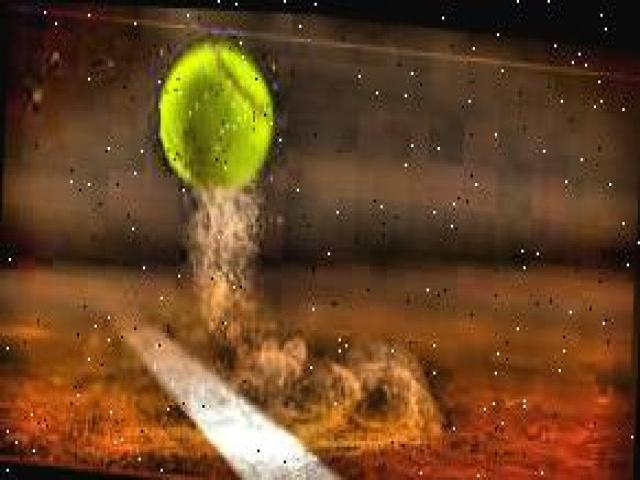tennis-ball: (156, 41, 273, 189)
